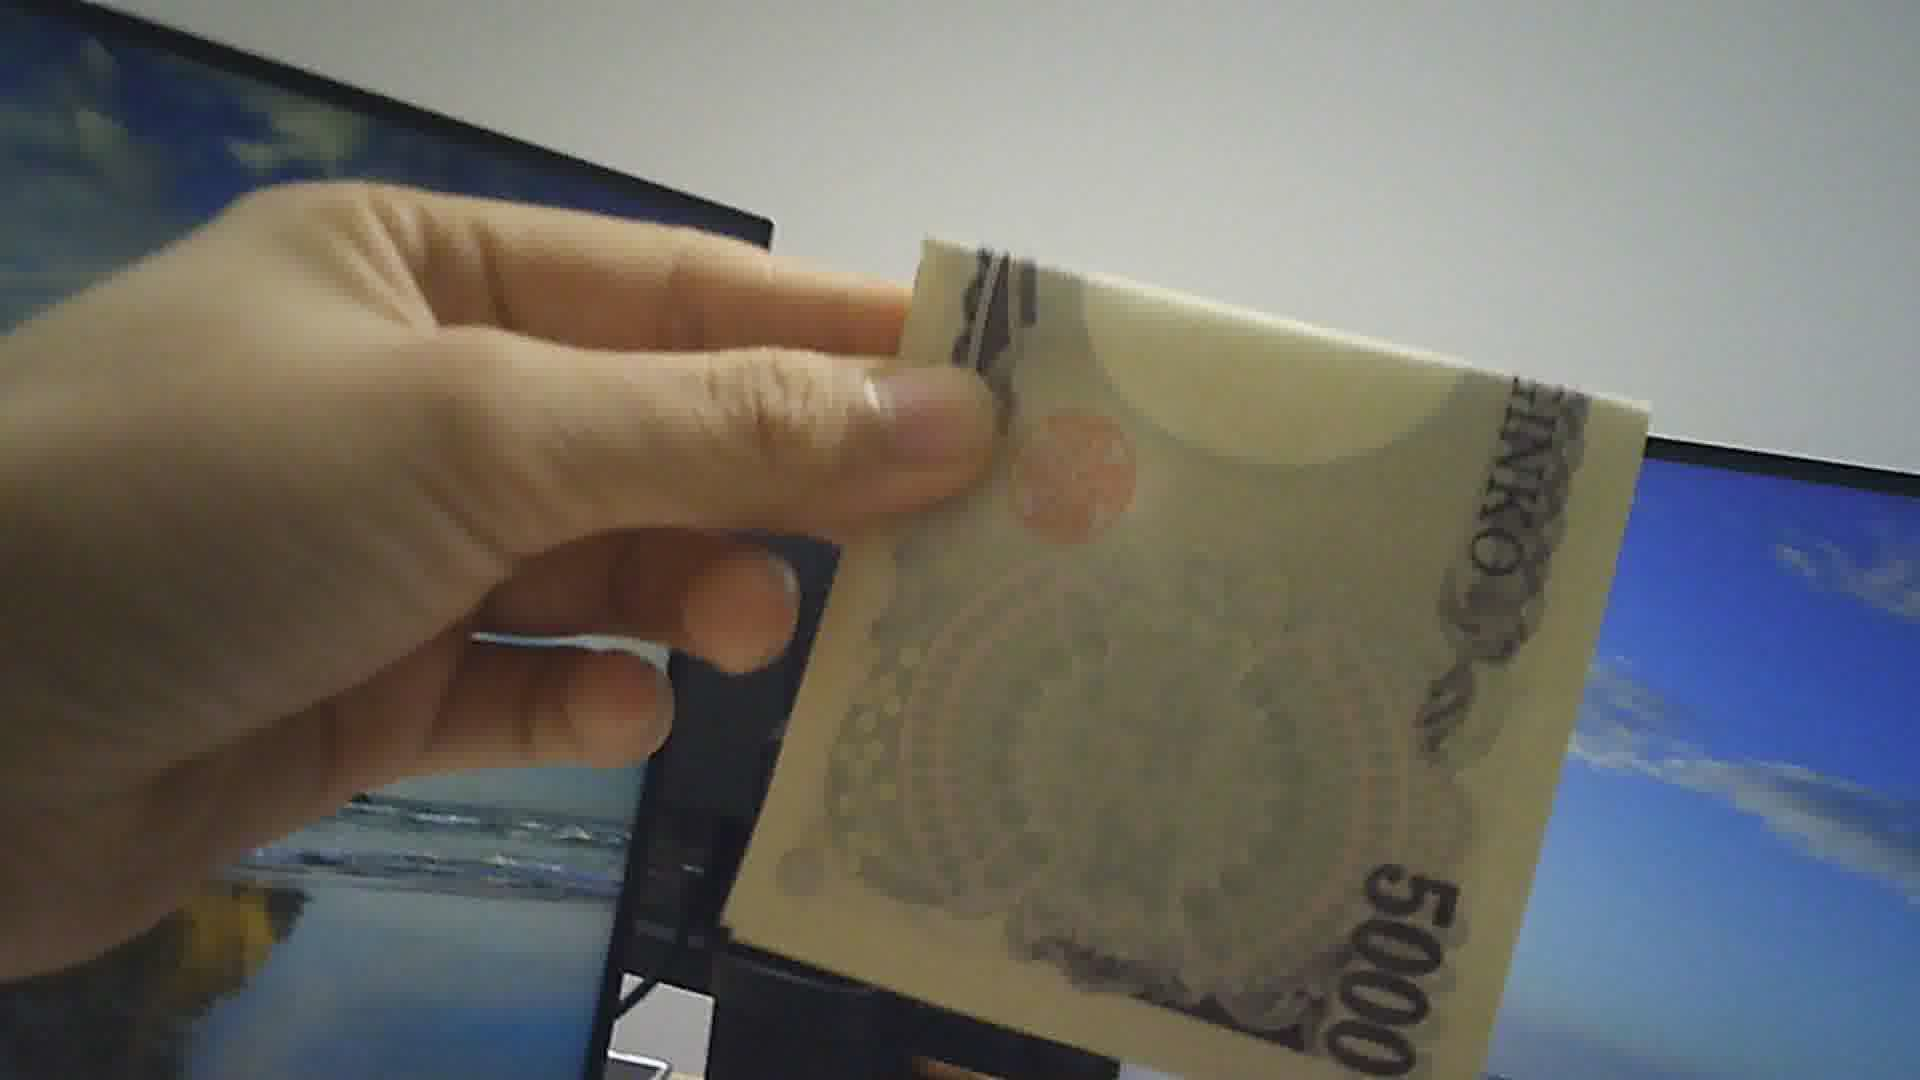5,000 Yen: (749, 215, 1658, 1079)
